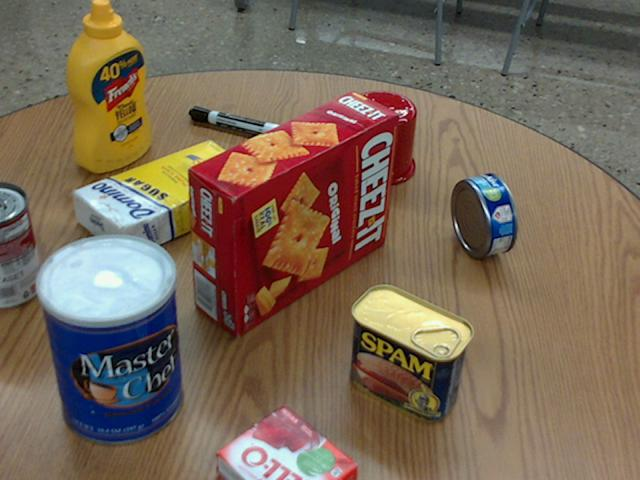cracker_box: (189, 91, 397, 333)
gelatin_box: (214, 405, 357, 479)
large_marker: (189, 105, 280, 138)
master_chef_can: (36, 234, 182, 444)
mug: (333, 91, 416, 185)
mustard_bottle: (68, 0, 149, 171)
potted_meat_can: (349, 283, 472, 421)
sugar_box: (72, 138, 256, 259)
tomato_soup_can: (0, 180, 41, 307)
tuna_fish_can: (449, 172, 516, 256)
